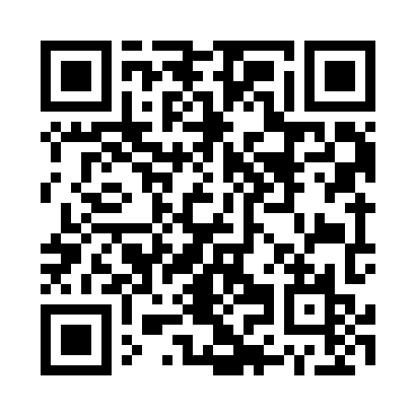qr: (35, 37, 379, 386)
